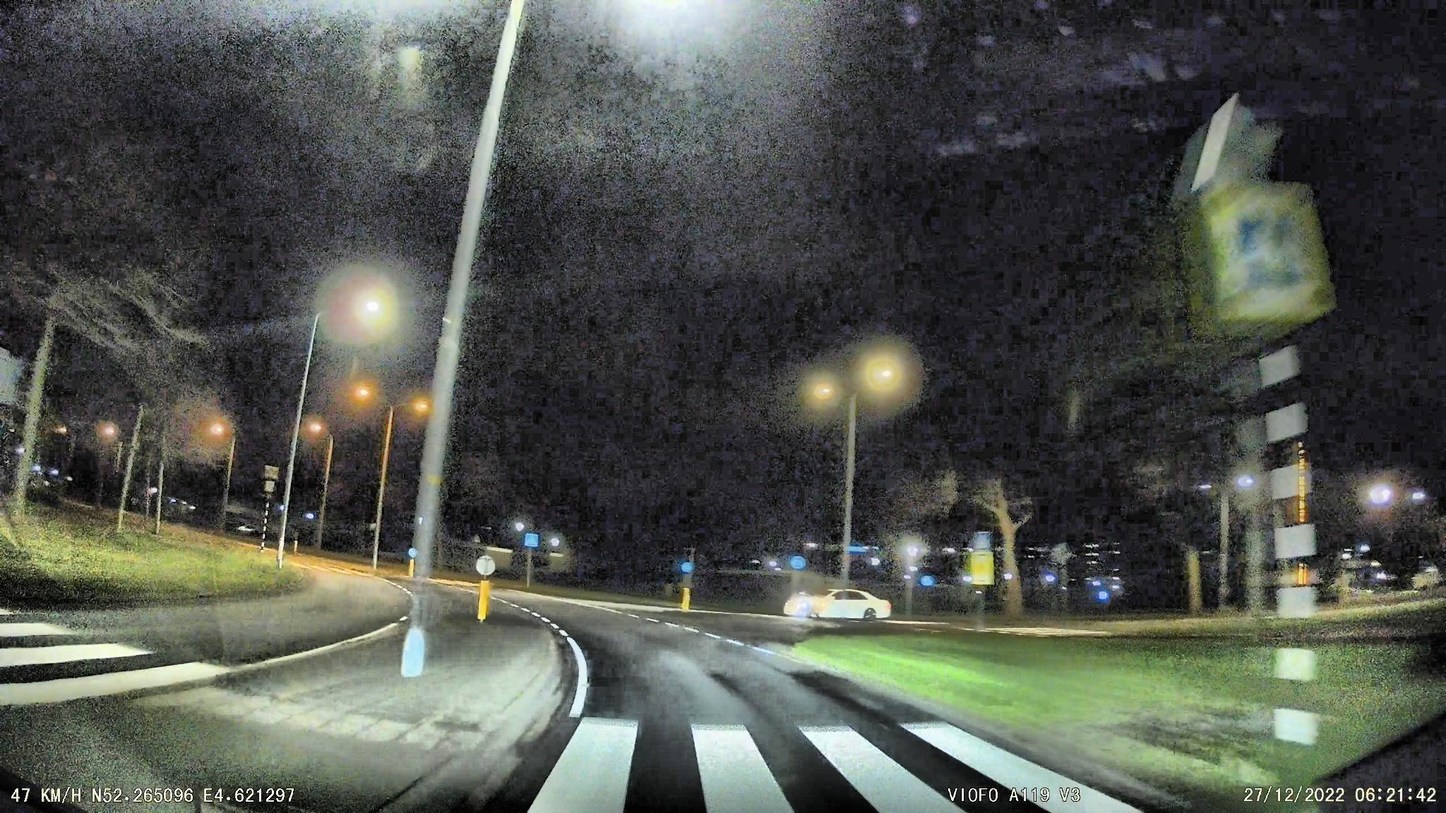Roads: (418, 578, 1148, 813)
